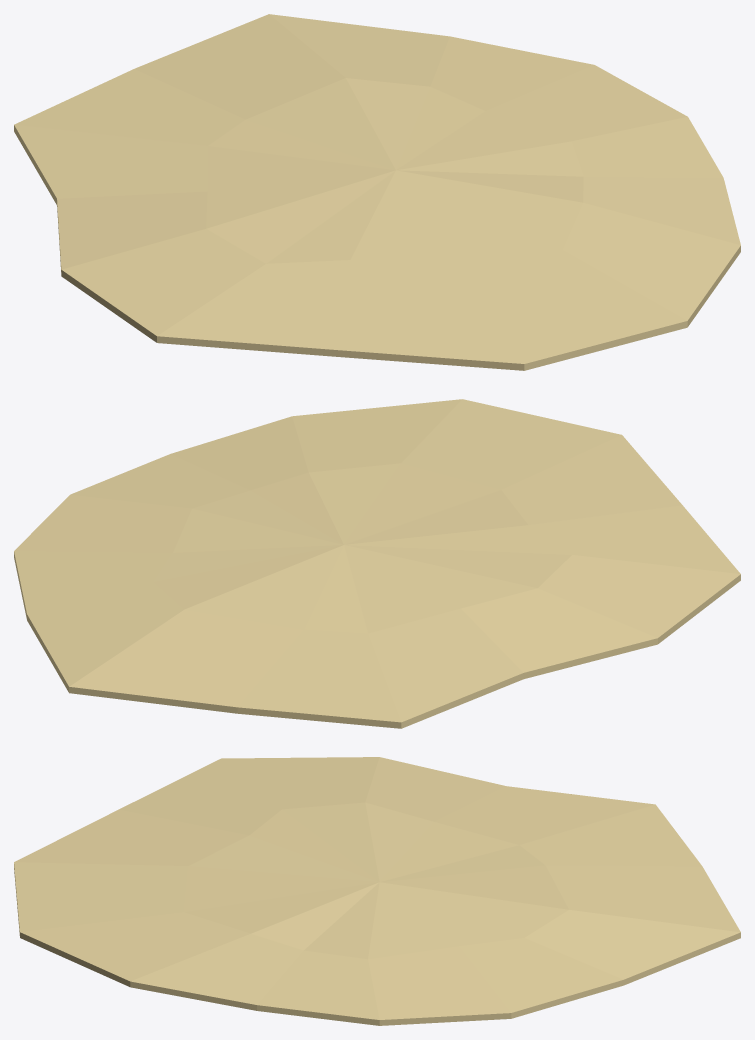
The model's file is SandPatch.fbx.
The picture shows the model from 3 angles, top to bottom: view 1: azimuth 30°, elevation 25°; view 2: azimuth 150°, elevation 25°; view 3: azimuth 270°, elevation 25°; orthographic projection. The views are drawn at different scales.
Parts seen in each view (by area): view 1: SandPatch_Sand; view 2: SandPatch_Sand; view 3: SandPatch_Sand.
Boxes of the visible parts, box(x1,y1,x2,y2) form: SandPatch_Sand: box(14, 14, 740, 370); SandPatch_Sand: box(14, 399, 740, 728); SandPatch_Sand: box(14, 757, 740, 1025).
Size of the model in its own units: 24.06 by 0.9 by 28.09.
